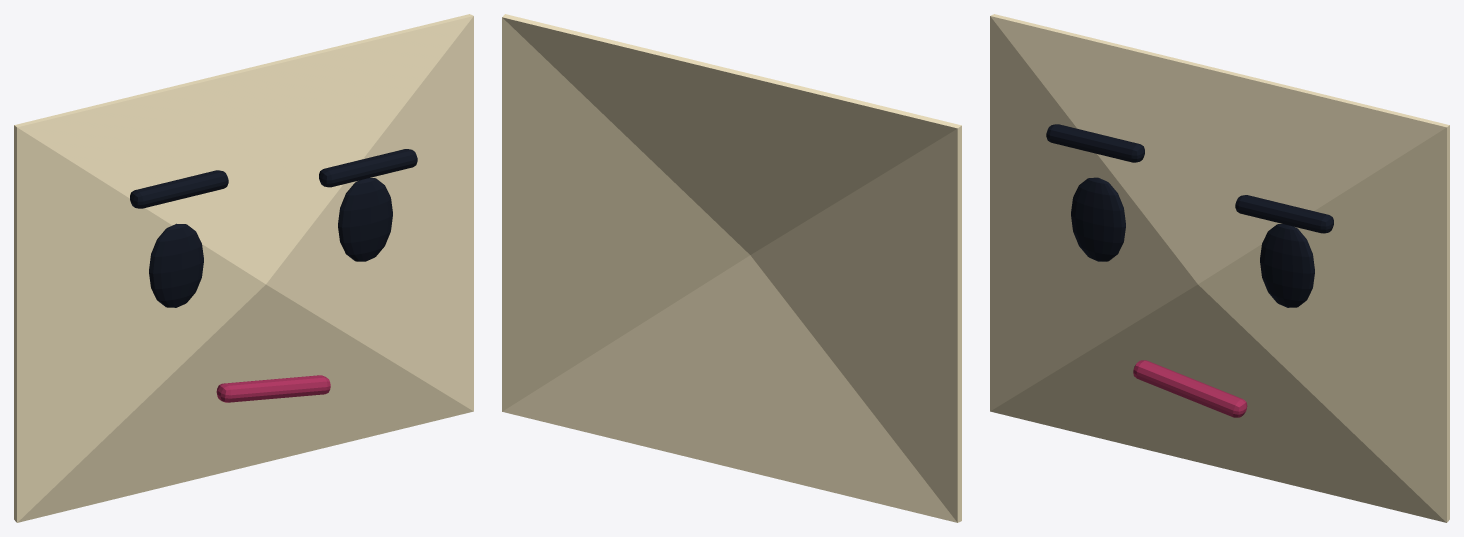
The model's file is Face_emote_shrug.fbx.
3 renders of one model, left to right at view 1: azimuth 30°, elevation 25°; view 2: azimuth 150°, elevation 25°; view 3: azimuth 330°, elevation 25°, orthographic.
Parts seen in each view (by area): view 1: Face_emote_shrug.Mesh; view 2: Face_emote_shrug.Mesh; view 3: Face_emote_shrug.Mesh.
Part boxes in pixels (x1=…): Face_emote_shrug.Mesh: x1=14, y1=14, x2=473, y2=522; Face_emote_shrug.Mesh: x1=502, y1=14, x2=961, y2=522; Face_emote_shrug.Mesh: x1=990, y1=14, x2=1449, y2=522.
Size of the model in its own units: 58 by 48 by 8.14.
